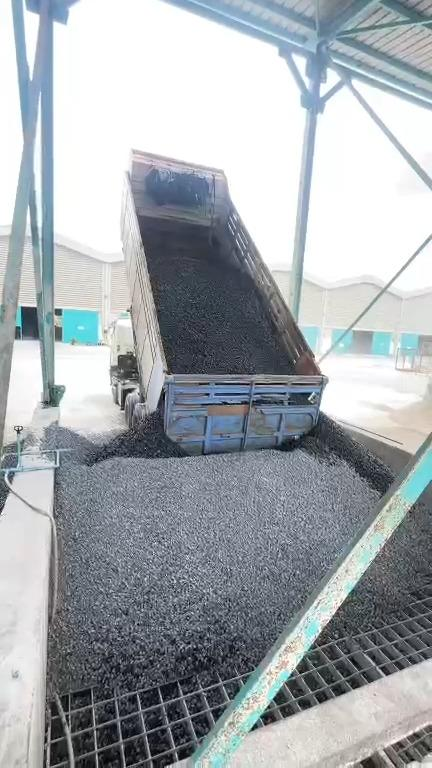gravel: (37, 383, 393, 687), (156, 262, 295, 378), (333, 511, 431, 642), (0, 477, 13, 533), (22, 436, 41, 457), (4, 460, 20, 473), (6, 446, 20, 458), (9, 476, 19, 489)
sand: (356, 400, 431, 449)
